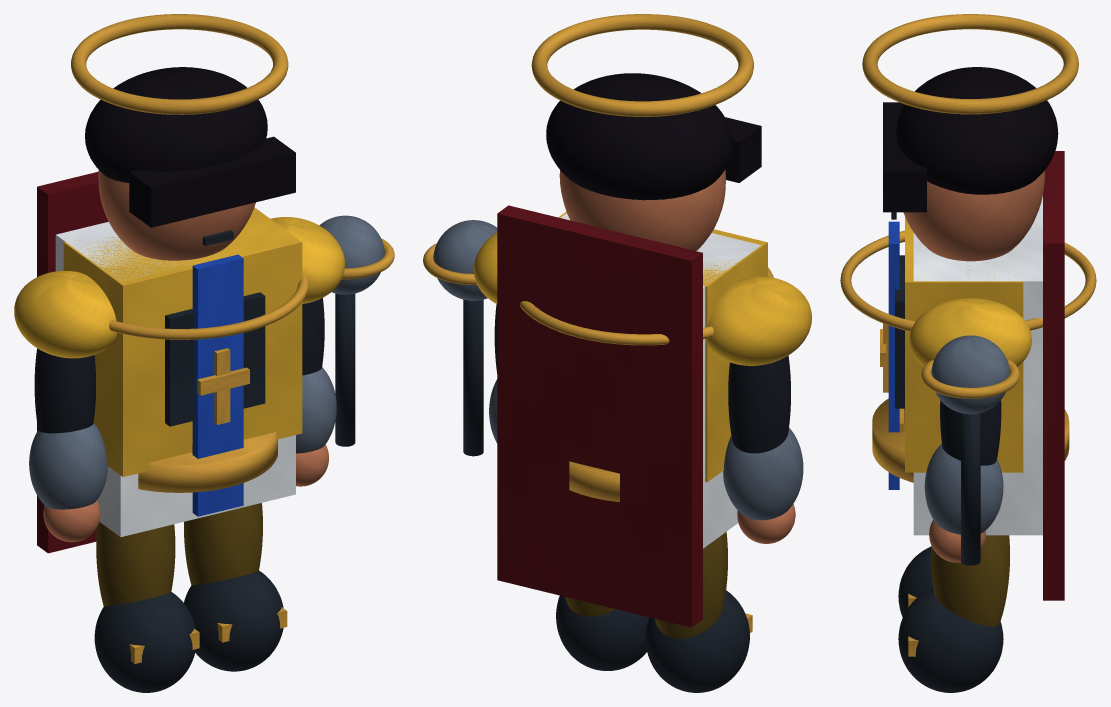
Rendered from Advanced.glb.
3 views of the same model, side by side, from view 1: azimuth 30°, elevation 25°; view 2: azimuth 150°, elevation 25°; view 3: azimuth 270°, elevation 25° (orthographic). The views are drawn at different scales.
Visible parts, largest first — view 1: ChestPlate, Hair, WhiteRobe, BlueStole, HairFringe, Boot, DivineHalo, Boot.001, Shoulder, Head, Gauntlet, Leg (+16 smaller); view 2: Cape, Hair, DivineHalo, Shoulder, Head, Boot, Arm, ChestPlate, Gauntlet, Boot.001, WhiteRobe, MaceHandle (+8 smaller); view 3: Hair, WhiteRobe, Cape, ChestPlate, Head, DivineHalo, Boot.001, Shoulder.001, Leg.001, MaceHead, Gauntlet.001, HairFringe (+9 smaller).
Part boxes in pixels (<box>): ChestPlate: <box>63,207,302,476</box>; Hair: <box>85,67,267,182</box>; WhiteRobe: <box>55,222,295,537</box>; BlueStole: <box>192,254,243,516</box>; HairFringe: <box>129,136,295,227</box>; Boot: <box>94,592,195,692</box>; DivineHalo: <box>71,14,288,114</box>; Boot.001: <box>184,570,283,671</box>; Shoulder: <box>14,271,117,358</box>; Head: <box>98,170,255,260</box>; Gauntlet: <box>29,423,107,509</box>; Leg: <box>96,522,175,606</box>; Cape: <box>497,205,702,627</box>; Hair: <box>546,73,732,200</box>; DivineHalo: <box>531,14,753,116</box>; Shoulder: <box>705,276,811,365</box>; Head: <box>559,169,725,250</box>; Boot: <box>645,590,749,692</box>; Arm: <box>728,355,790,453</box>; ChestPlate: <box>558,211,767,482</box>; Gauntlet: <box>723,427,803,520</box>; Boot.001: <box>556,595,648,670</box>; WhiteRobe: <box>560,213,761,548</box>; MaceHandle: <box>463,299,483,456</box>; Hair: <box>896,67,1058,194</box>; WhiteRobe: <box>913,196,1042,535</box>; Cape: <box>1043,151,1064,600</box>; ChestPlate: <box>905,217,1023,472</box>; Head: <box>903,170,1044,261</box>; DivineHalo: <box>862,14,1078,114</box>; Boot.001: <box>898,588,1003,692</box>; Shoulder.001: <box>909,298,1031,366</box>; Leg.001: <box>931,535,1009,626</box>; MaceHead: <box>931,335,1009,414</box>; Gauntlet.001: <box>924,444,1003,534</box>; HairFringe: <box>883,102,926,212</box>.
Size of the model in its own units: 1.92 by 3.08 by 1.17.
13 materials, 11 textured.
